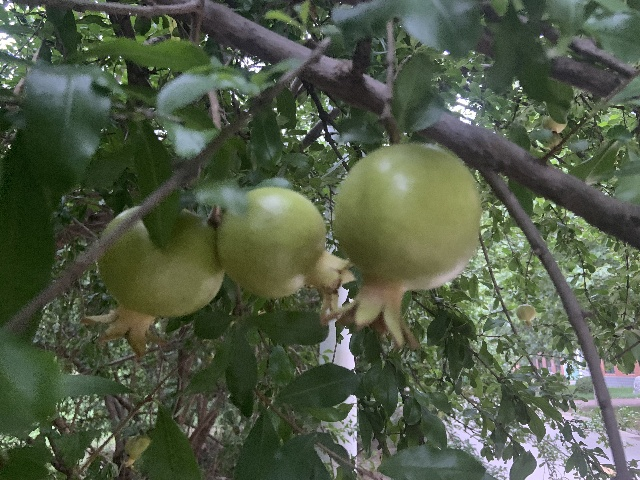mid-growth: (325, 142, 482, 350), (80, 205, 224, 357), (215, 186, 356, 318), (541, 115, 566, 134), (516, 304, 535, 326)
